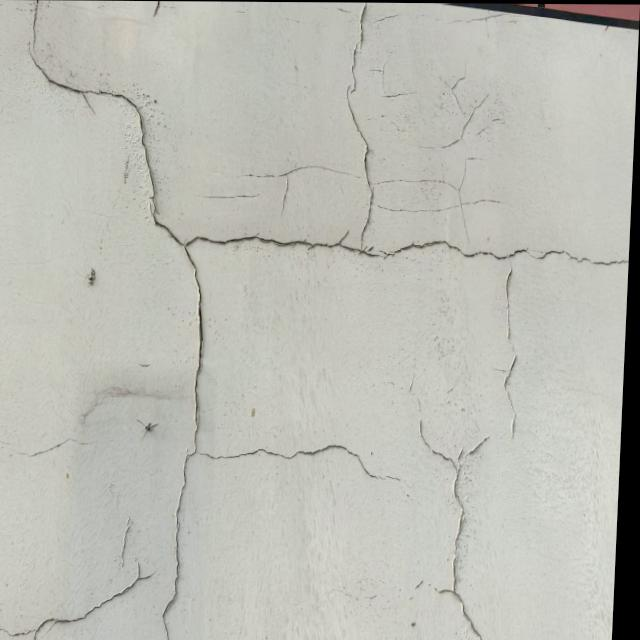crack: (23, 8, 628, 636), (407, 403, 491, 636), (0, 554, 159, 637)
